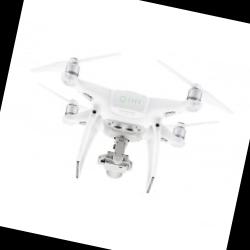drone: (23, 39, 238, 170)
